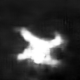plane: (13, 25, 69, 69)
